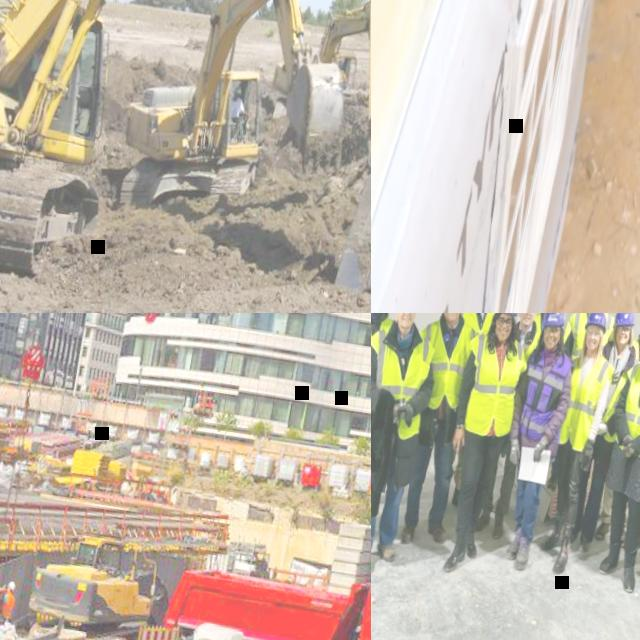Hardhat: (584, 313, 610, 334), (612, 313, 637, 330), (542, 313, 568, 329), (235, 88, 244, 96), (9, 582, 17, 590)
NO-Mask: (495, 324, 512, 342), (397, 313, 415, 329), (544, 336, 560, 352), (519, 313, 534, 328), (615, 334, 630, 348), (584, 338, 599, 352), (442, 313, 461, 321), (234, 97, 240, 103)
NO-Safety Vest: (230, 100, 243, 121)
Person: (431, 313, 539, 579), (486, 313, 586, 575), (383, 313, 491, 549), (535, 313, 623, 579), (371, 313, 450, 581), (534, 313, 626, 523), (568, 313, 640, 562), (474, 313, 552, 541), (584, 315, 640, 595), (428, 313, 507, 511), (501, 313, 565, 516), (595, 313, 640, 547), (371, 313, 401, 530), (224, 88, 254, 140), (0, 580, 19, 625)
Safety Vest: (455, 329, 533, 442), (371, 317, 439, 441), (406, 313, 483, 416), (559, 352, 617, 458), (515, 347, 576, 444), (598, 352, 640, 447), (613, 359, 640, 463), (562, 313, 617, 364), (531, 313, 576, 347), (510, 318, 543, 360), (371, 313, 396, 362), (456, 313, 498, 338), (3, 593, 16, 619), (629, 339, 640, 364)
vehicle: (0, 0, 371, 313), (110, 0, 371, 245), (154, 545, 371, 640), (28, 522, 180, 638)
